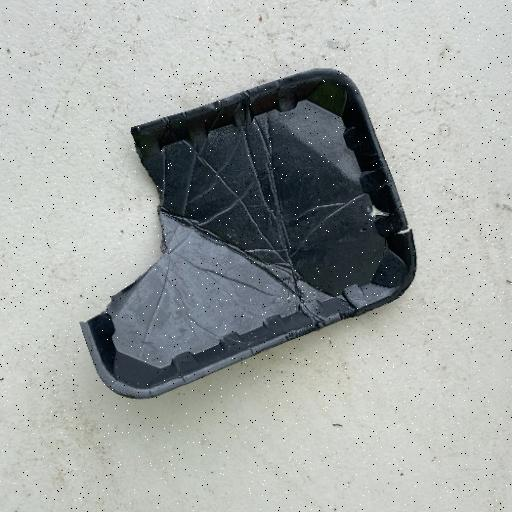Plastic: (78, 66, 419, 400)
